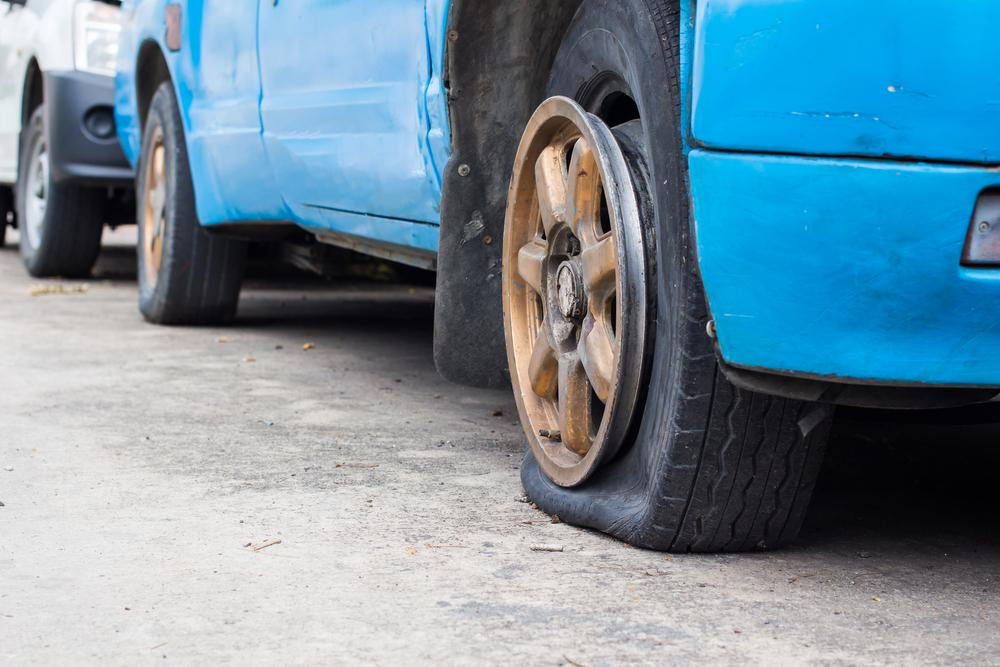tire flat: (503, 0, 835, 551)
